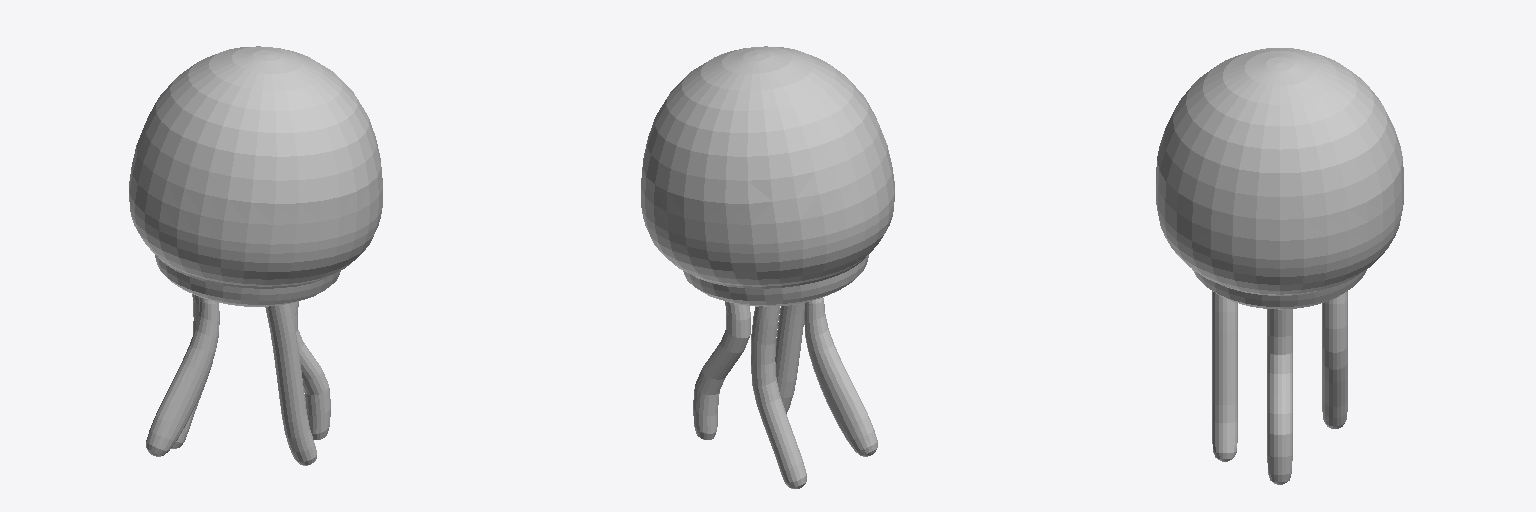
Rendered from jellyfish.obj.
3 views of the same model, side by side, from view 1: azimuth 30°, elevation 25°; view 2: azimuth 150°, elevation 25°; view 3: azimuth 270°, elevation 25° (orthographic).
Parts seen in each view (by area): view 1: Jelly_Fish; view 2: Jelly_Fish; view 3: Jelly_Fish.
Part boxes in pixels (x1,y1,x2,y2): Jelly_Fish: (129,46,382,465); Jelly_Fish: (641,46,894,488); Jelly_Fish: (1156,48,1403,484).
Size of the model in its own units: 0.9884 by 1.69 by 0.9579.